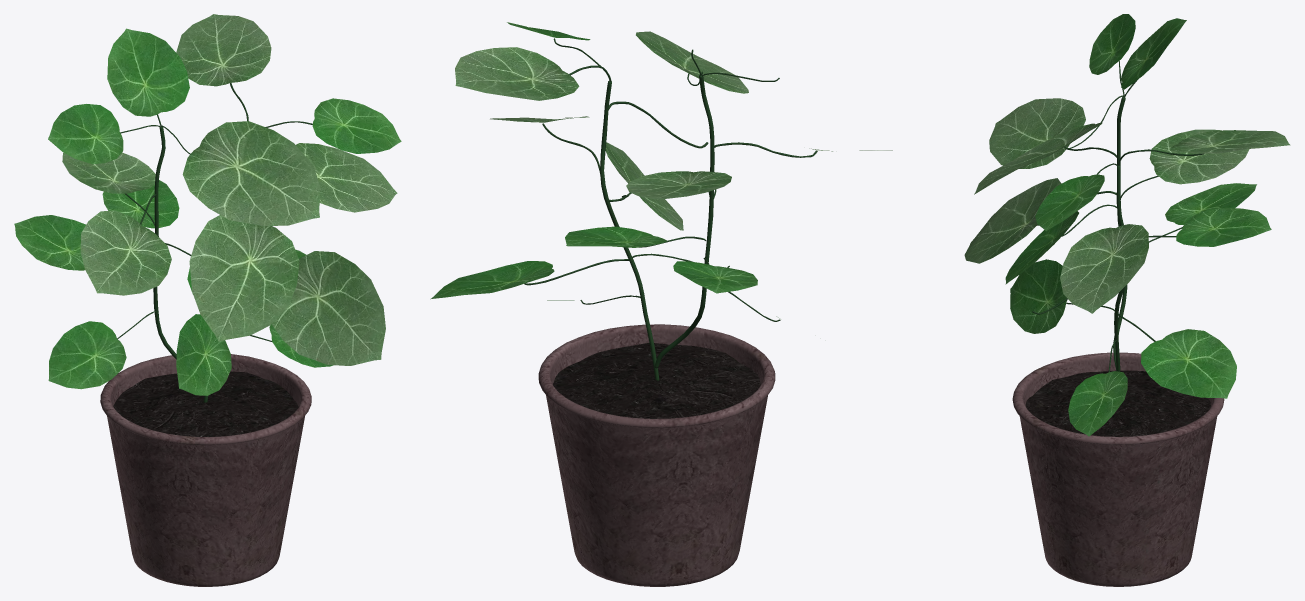
Rendered from smatarna_sztuczna_roslina_doniczkowa_60630727.glb.
3 renders of one model, left to right at view 1: azimuth 30°, elevation 25°; view 2: azimuth 150°, elevation 25°; view 3: azimuth 270°, elevation 25°, orthographic. The views are drawn at different scales.
Parts seen in each view (by area): view 1: smatarna_sztuczna_roslina_doniczkowa_60630727; view 2: smatarna_sztuczna_roslina_doniczkowa_60630727; view 3: smatarna_sztuczna_roslina_doniczkowa_60630727.
Boxes of the visible parts, <box> form: smatarna_sztuczna_roslina_doniczkowa_60630727: <box>14,14,401,586</box>; smatarna_sztuczna_roslina_doniczkowa_60630727: <box>430,22,892,586</box>; smatarna_sztuczna_roslina_doniczkowa_60630727: <box>964,14,1290,586</box>.
Size of the model in its own units: 0.2334 by 0.328 by 0.1997.
Materials: 1 (1 with a texture image).
